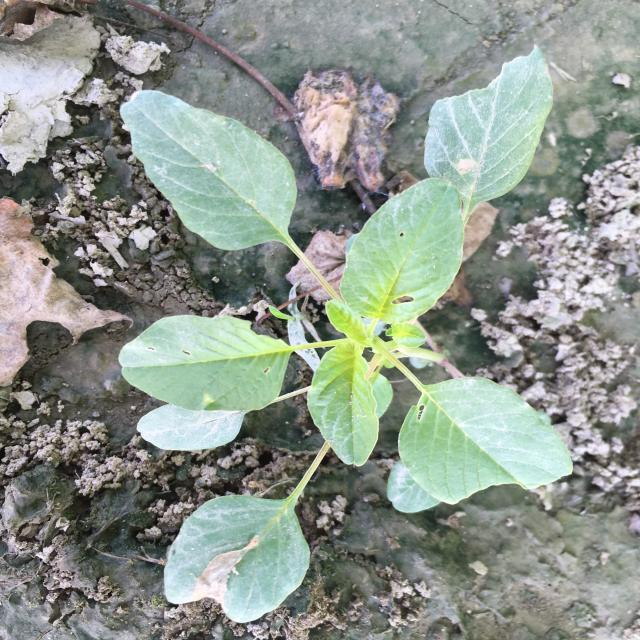PalmerAmaranth: (118, 45, 573, 623)
